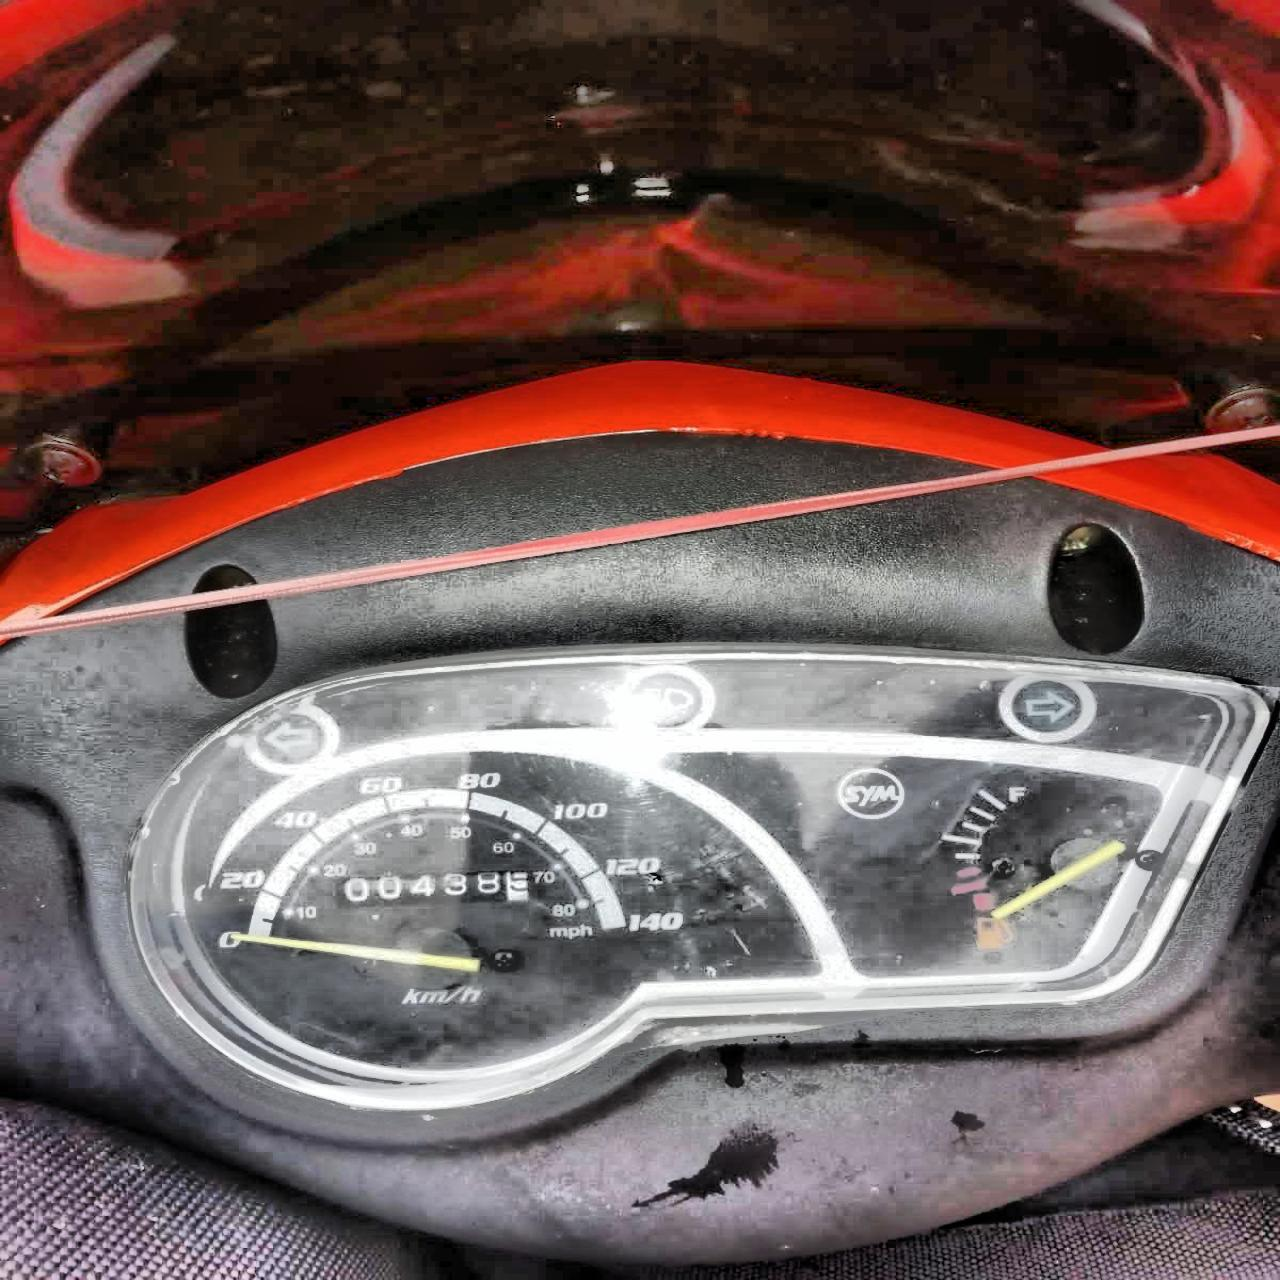0: (345, 877, 368, 901), (377, 876, 401, 898)
3: (442, 872, 468, 894)
4: (410, 874, 434, 896)
5: (508, 870, 530, 891)
8: (476, 871, 501, 893)
odometer: (333, 869, 530, 906)
